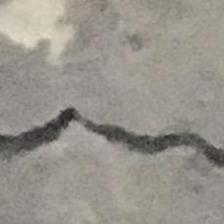Crack: (0, 100, 224, 188)
